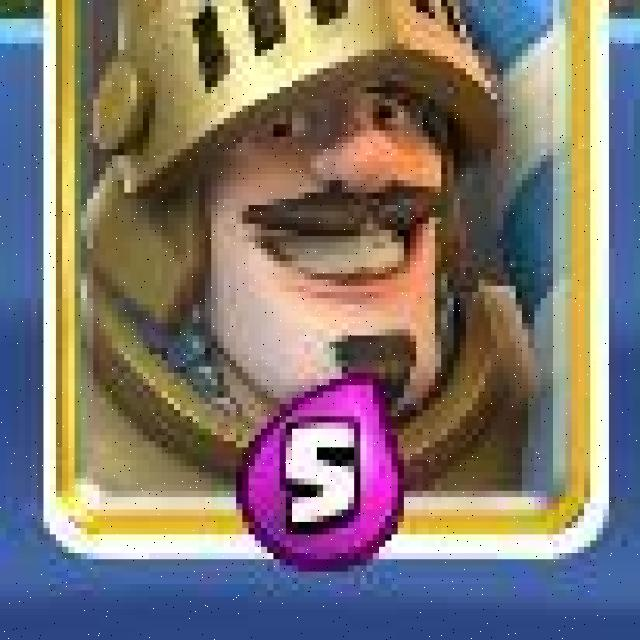Prince: (40, 0, 611, 562)
